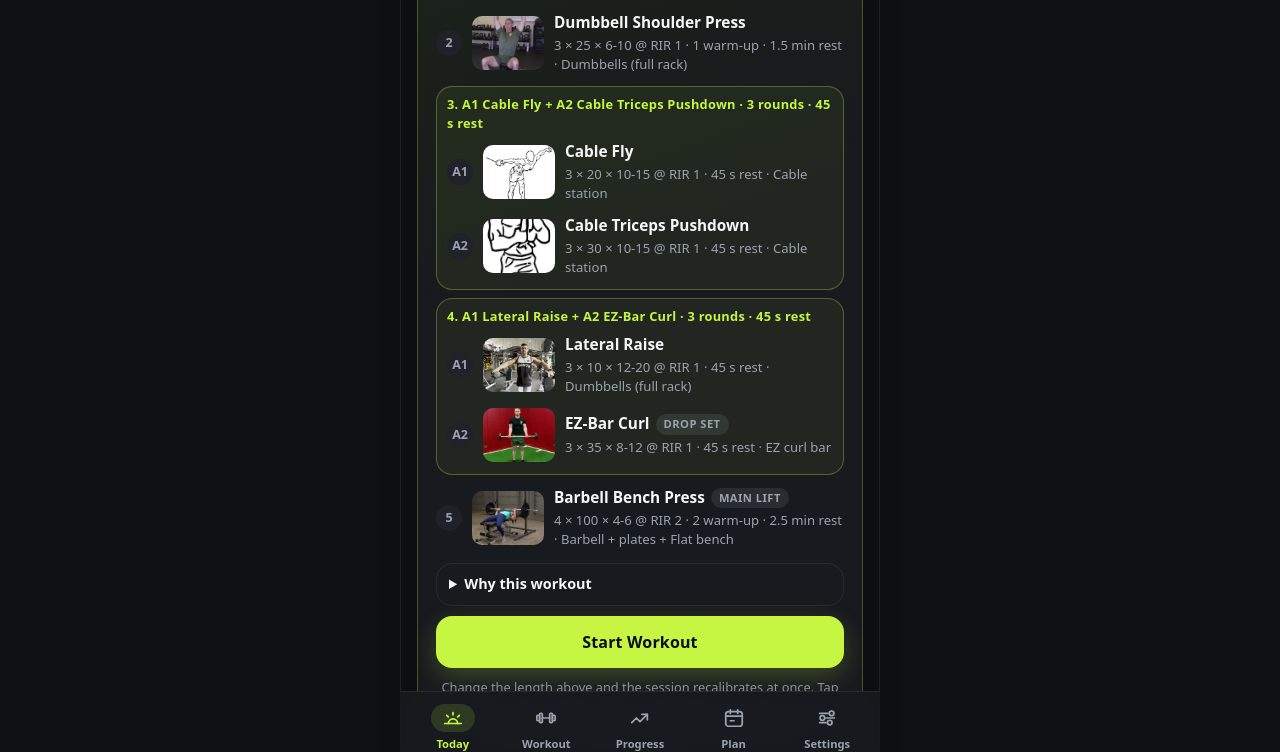
Equipment busy on the screens › on Today, is off for the lift a busy lift waits on when only that lift is left after it (the third review)
The image size is (1280, 752).
(page scrolled)
Click the button with test id "workout-entry" that starts with "Lateral Raise" at (640, 365), box 447,330 -> 833,400
(page scrolled)
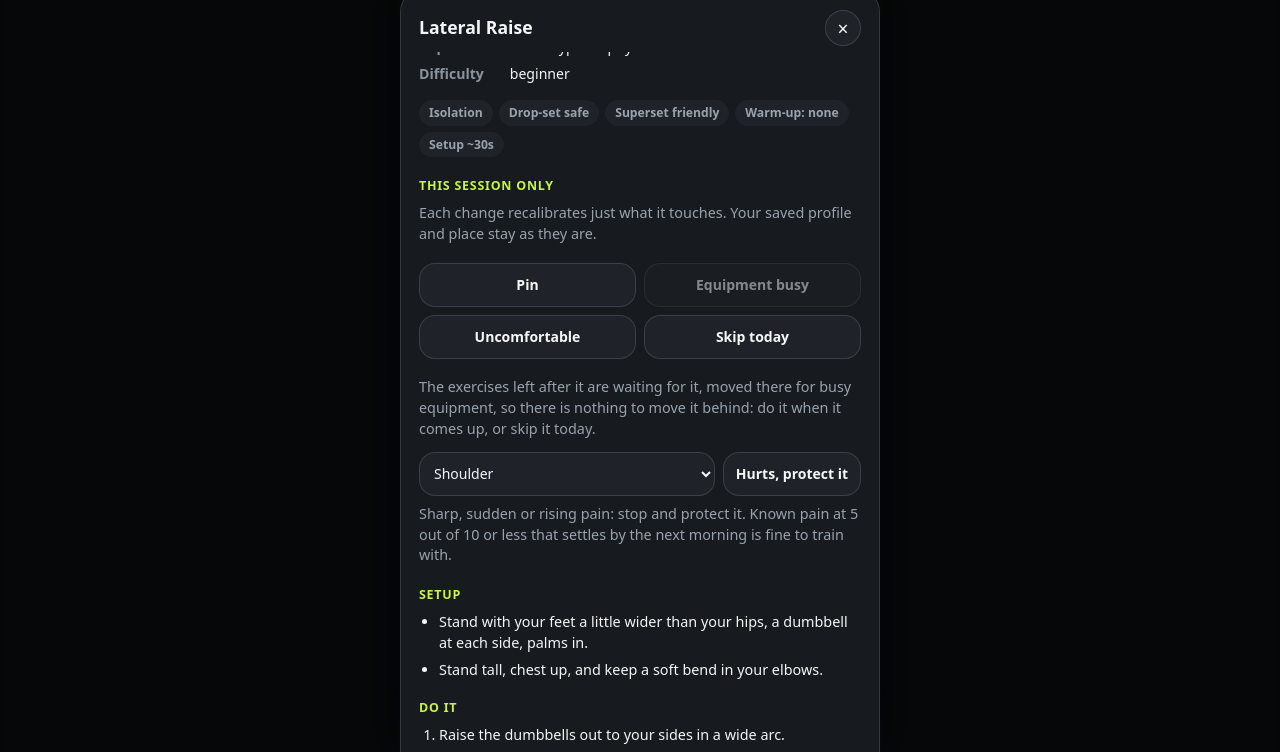
Check: the button with test id "equipment-busy" is disabled, box 644,263 -> 861,307
Check: the text with test id "busy-reason" shows "The exercises left after it are waiting for it, moved there for busy equipment, so there is nothing to move it behind: do it when it comes up, or skip it today.", box 419,377 -> 851,438
